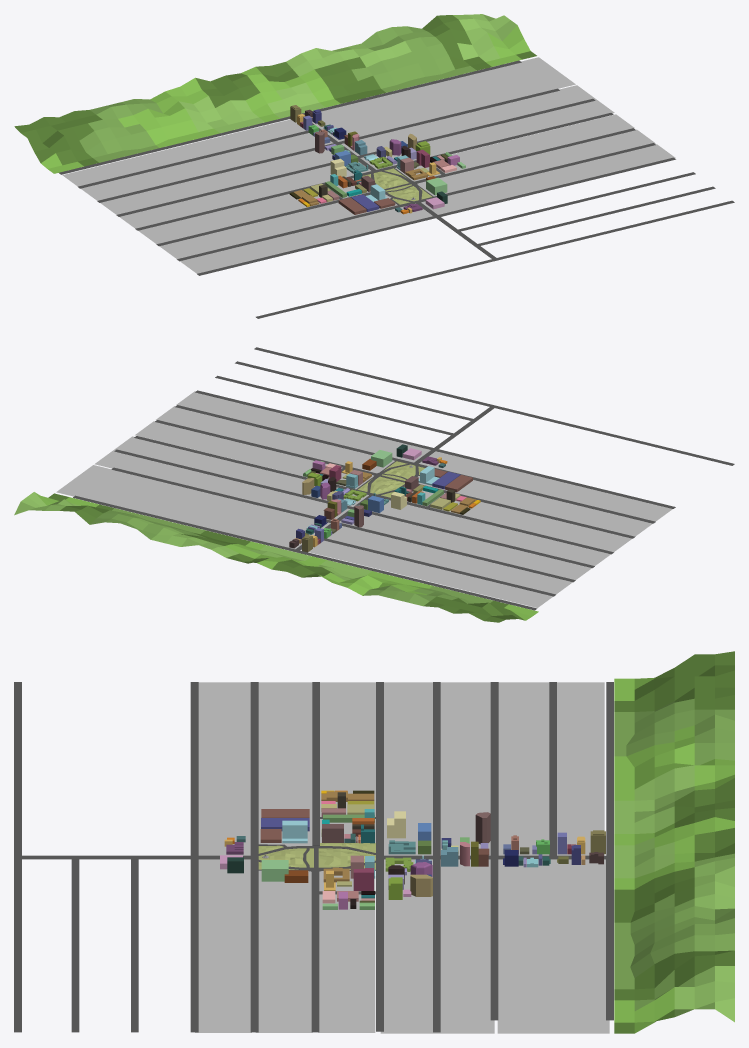
The model's file is cityTest_02_02.fbx.
3 views of the same model, one above another, from view 1: azimuth 30°, elevation 25°; view 2: azimuth 150°, elevation 25°; view 3: azimuth 270°, elevation 25° (orthographic). The views are drawn at different scales.
Parts seen in each view (by area): view 1: hills_geo, pavement6, pavement9, pavement15, pavement8, pavement14, pavement13, pavement16, pavement2, pavement5, pavement12, pavement10 (+23 smaller); view 2: hills_geo, pavement6, pavement15, pavement9, pavement14, pavement8, pavement5, pavement13, pavement16, pavement2, pavement12, pavement10 (+23 smaller); view 3: hills_geo, pavement6, pavement15, pavement9, pavement8, pavement5, pavement14, pavement2, pavement13, pavement16, pavement3, pavement10 (+28 smaller).
Part boxes in pixels (x1,y1,x2,y2): hills_geo: (14,14,536,173); pavement6: (320,70,575,141); pavement9: (180,203,432,273); pavement15: (312,57,556,128); pavement8: (421,144,675,214); pavement14: (81,133,333,200); pavement13: (100,149,333,214); pavement16: (62,119,307,186); pavement2: (417,129,655,196); pavement5: (341,85,595,155); pavement12: (120,161,370,228); pavement10: (159,194,397,258); hills_geo: (14,492,538,622); pavement6: (74,465,330,535); pavement15: (56,479,301,549); pavement9: (419,451,672,521); pavement14: (327,526,572,594); pavement8: (176,391,430,462); pavement5: (94,450,349,520); pavement13: (339,514,591,580); pavement16: (301,540,552,607); pavement2: (156,406,394,473); pavement12: (372,500,610,565); pavement10: (418,476,652,536); hills_geo: (614,651,734,1033); pavement6: (497,859,554,1033); pavement15: (552,859,609,1033); pavement9: (198,682,250,855); pavement8: (195,859,251,1032); pavement5: (437,859,494,1033); pavement14: (498,682,549,855); pavement2: (255,870,312,1032); pavement13: (440,682,490,855); pavement16: (557,682,604,855); pavement3: (318,871,375,1032); pavement10: (258,682,312,846).
Bounding box in the file's own units: 1498 × 77.44 × 1286.
